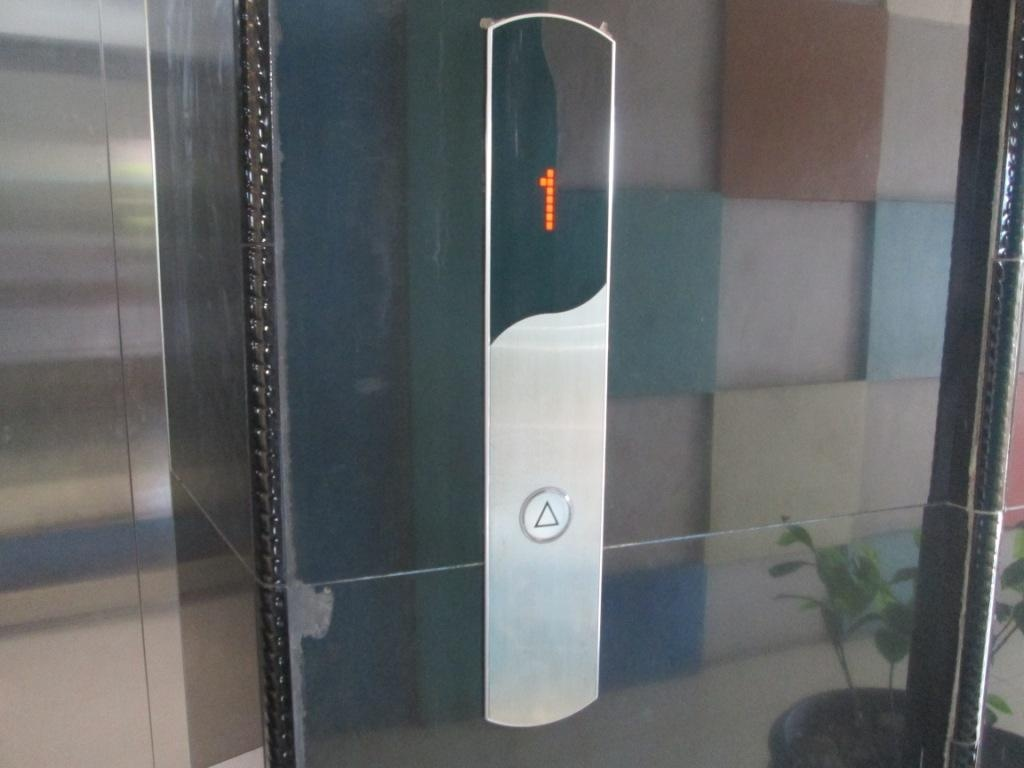led: (484, 15, 614, 343)
up: (513, 480, 574, 548)
